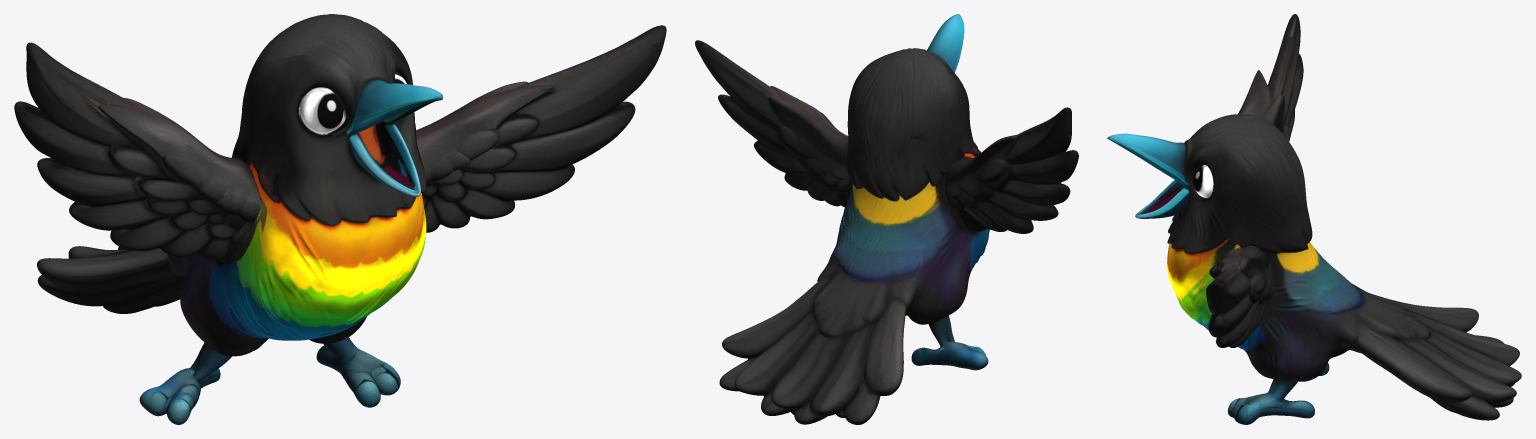
The picture shows the model from 3 angles, left to right: view 1: azimuth 30°, elevation 25°; view 2: azimuth 150°, elevation 25°; view 3: azimuth 270°, elevation 25°; orthographic projection. The views are drawn at different scales.
Bounding box in the file's own units: 1.9 × 1.24 × 1.57.
Materials: 1 (1 with a texture image).
